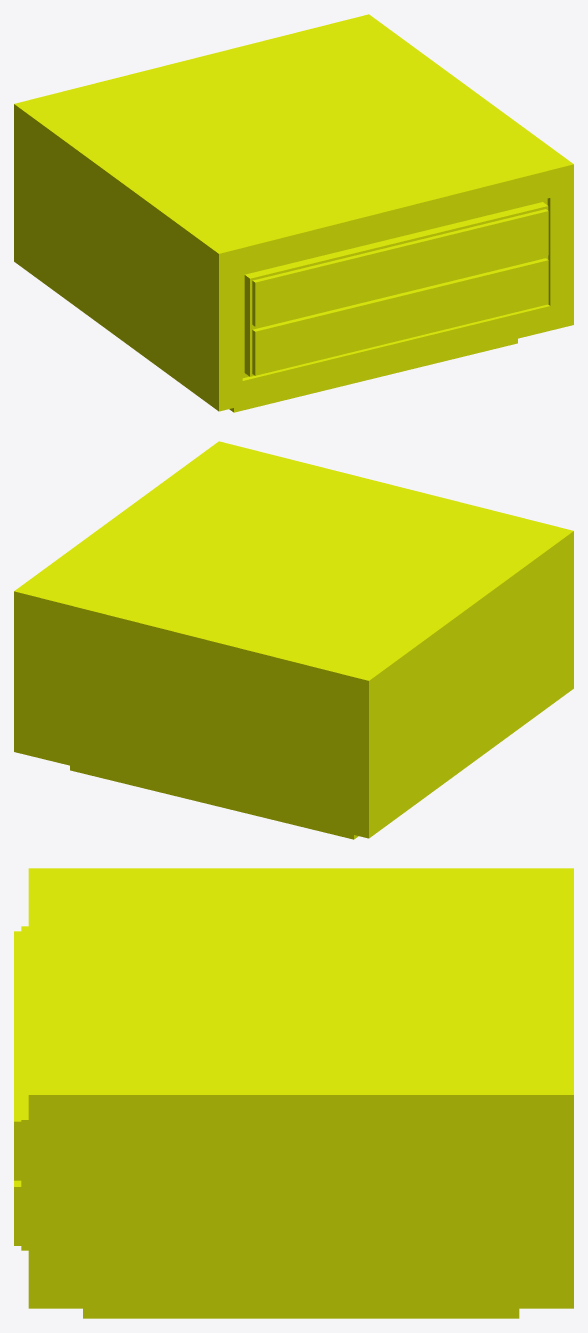
The model's file is Drawer1.FBX.
3 renders of one model, top to bottom at view 1: azimuth 30°, elevation 25°; view 2: azimuth 150°, elevation 25°; view 3: azimuth 270°, elevation 25°, orthographic. The views are drawn at different scales.
Visible parts, largest first — view 1: Box004; view 2: Box004; view 3: Box004.
Part boxes in pixels (box(x1,y1,x2,y2)): Box004: box(14, 14, 573, 412); Box004: box(14, 441, 573, 839); Box004: box(14, 868, 573, 1318).
Size of the model in its own units: 1.41 by 0.7017 by 1.44.
